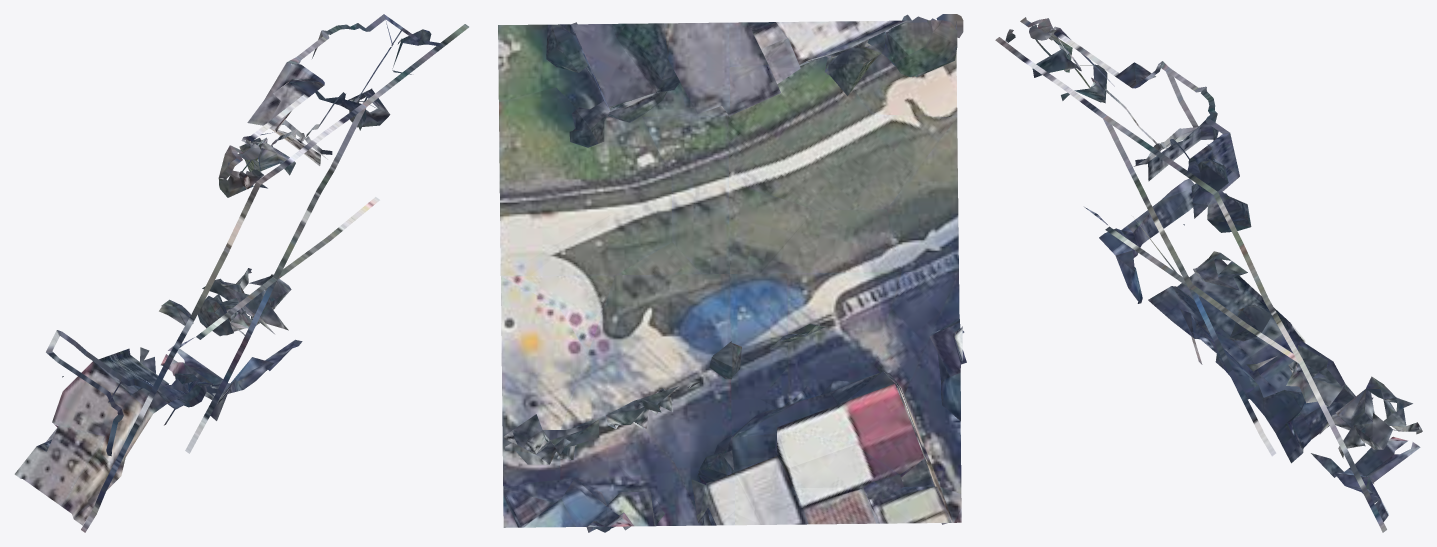
The picture shows the model from 3 angles, left to right: view 1: azimuth 30°, elevation 25°; view 2: azimuth 150°, elevation 25°; view 3: azimuth 270°, elevation 25°; orthographic projection. The views are drawn at different scales.
Bounding box in the file's own units: 81.96 × 75.24 × 69.95.
Materials: 2 (2 with a texture image).
